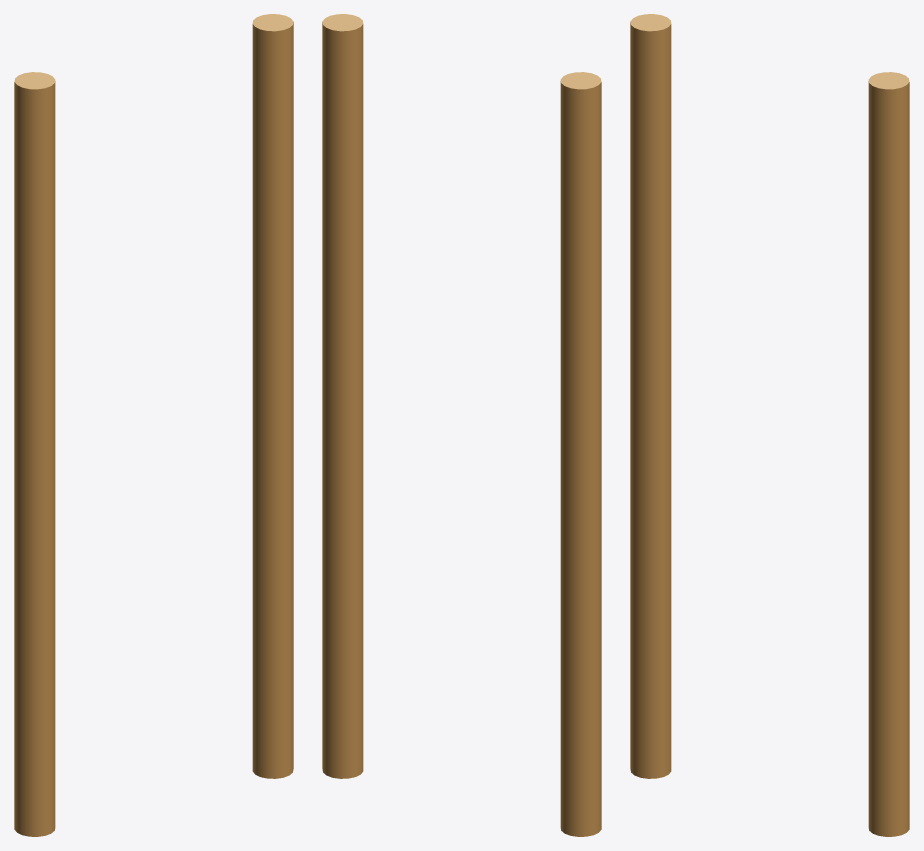
The model's file is wooden-bridge-end-section.glb.
3 views of the same model, side by side, from view 1: azimuth 30°, elevation 25°; view 2: azimuth 150°, elevation 25°; view 3: azimuth 330°, elevation 25° (orthographic).
Visible parts, largest first — view 1: wooden bridge end section; view 2: wooden bridge end section; view 3: wooden bridge end section.
Boxes of the visible parts, x1,y1,x2,y2 form: wooden bridge end section: (14,14,293,836); wooden bridge end section: (322,14,601,836); wooden bridge end section: (630,14,909,836).
Size of the model in its own units: 4.6 by 12 by 0.6.
1 material, 1 textured.
